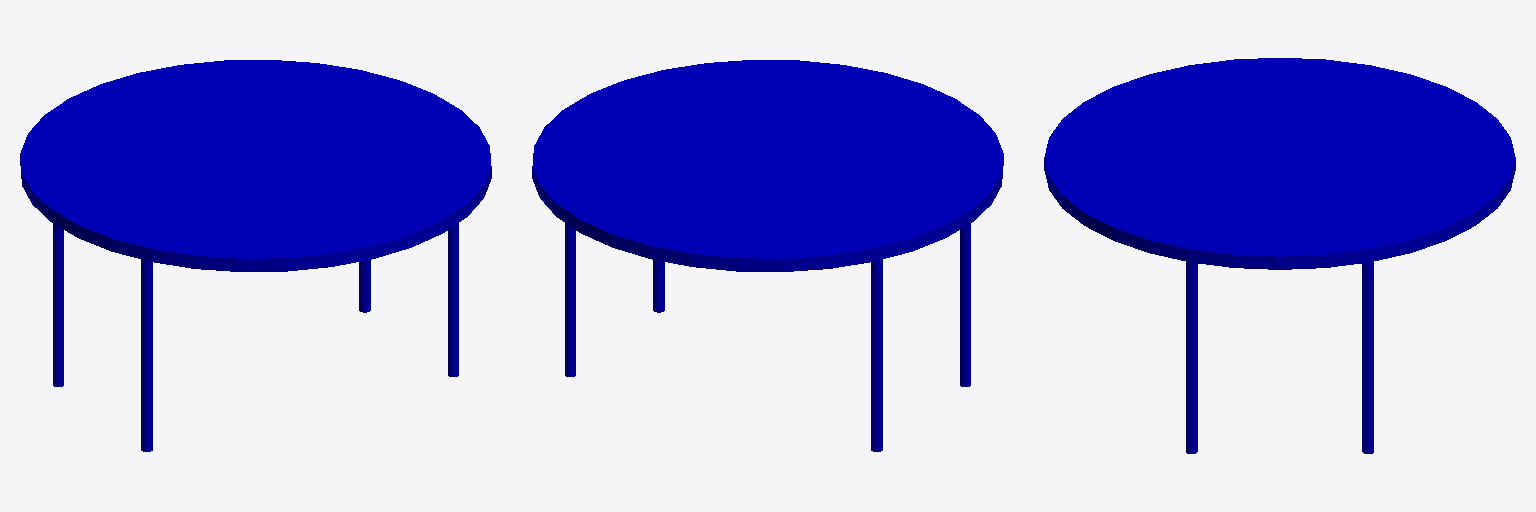
robot.urdf — turtlebot3_burger:
<?xml version="1.0" ?>
<!-- =================================================================================== -->
<!-- |    This document was autogenerated by xacro from tb3_burger.urdf.xacro          | -->
<!-- |    EDITING THIS FILE BY HAND IS NOT RECOMMENDED                                 | -->
<!-- =================================================================================== -->
<robot name="turtlebot3_burger">
  <!-- Init colour -->
  <material name="black">
    <color rgba="0.0 0.0 0.0 1.0"/>
  </material>
  <material name="dark">
    <color rgba="0.3 0.3 0.3 1.0"/>
  </material>
  <material name="light_black">
    <color rgba="0.4 0.4 0.4 1.0"/>
  </material>
  <material name="blue">
    <color rgba="0.0 0.0 0.8 1.0"/>
  </material>
  <material name="blueTransparent">
    <color rgba="0.0 0.0 0.8 0.4"/>
  </material>
  <material name="green">
    <color rgba="0.0 0.8 0.0 1.0"/>
  </material>
  <material name="grey">
    <color rgba="0.5 0.5 0.5 1.0"/>
  </material>
  <material name="orange">
    <color rgba="1.0 0.4235294117647059 0.0392156862745098 1.0"/>
  </material>
  <material name="brown">
    <color rgba="0.8705882352941177 0.8117647058823529 0.7647058823529411 1.0"/>
  </material>
  <material name="red">
    <color rgba="0.8 0.0 0.0 1.0"/>
  </material>
  <material name="white">
    <color rgba="1.0 1.0 1.0 1.0"/>
  </material>
  <gazebo reference="base_link">
    <material>Gazebo/DarkGrey</material>
  </gazebo>
  <gazebo reference="wheel_left_link">
    <mu1>0.1</mu1>
    <mu2>0.1</mu2>
    <kp>500000.0</kp>
    <kd>10.0</kd>
    <minDepth>0.001</minDepth>
    <maxVel>0.1</maxVel>
    <fdir1>1 0 0</fdir1>
    <material>Gazebo/FlatBlack</material>
  </gazebo>
  <gazebo reference="wheel_right_link">
    <mu1>0.1</mu1>
    <mu2>0.1</mu2>
    <kp>500000.0</kp>
    <kd>10.0</kd>
    <minDepth>0.001</minDepth>
    <maxVel>0.1</maxVel>
    <fdir1>1 0 0</fdir1>
    <material>Gazebo/FlatBlack</material>
  </gazebo>
  <gazebo reference="caster_back_link">
    <mu1>0.1</mu1>
    <mu2>0.1</mu2>
    <kp>1000000.0</kp>
    <kd>100.0</kd>
    <minDepth>0.001</minDepth>
    <maxVel>1.0</maxVel>
    <material>Gazebo/FlatBlack</material>
  </gazebo>
  <gazebo reference="imu_link">
    <sensor name="imu" type="imu">
      <always_on>true</always_on>
      <visualize>false</visualize>
    </sensor>
    <material>Gazebo/FlatBlack</material>
  </gazebo>
  <gazebo>
    <plugin filename="libgazebo_ros_diff_drive.so" name="turtlebot3_burger_controller">
      <commandTopic>cmd_vel</commandTopic>
      <odometryTopic>odom</odometryTopic>
      <odometryFrame>odom</odometryFrame>
      <odometrySource>world</odometrySource>
      <publishOdomTF>true</publishOdomTF>
      <robotBaseFrame>base_footprint</robotBaseFrame>
      <publishWheelTF>false</publishWheelTF>
      <publishTf>true</publishTf>
      <publishWheelJointState>true</publishWheelJointState>
      <legacyMode>false</legacyMode>
      <updateRate>30</updateRate>
      <leftJoint>wheel_left_joint</leftJoint>
      <rightJoint>wheel_right_joint</rightJoint>
      <wheelSeparation>0.160</wheelSeparation>
      <wheelDiameter>0.066</wheelDiameter>
      <wheelAcceleration>1</wheelAcceleration>
      <wheelTorque>10</wheelTorque>
      <rosDebugLevel>na</rosDebugLevel>
    </plugin>
  </gazebo>
  <gazebo>
    <plugin filename="libgazebo_ros_imu.so" name="imu_plugin">
      <alwaysOn>true</alwaysOn>
      <bodyName>imu_link</bodyName>
      <frameName>imu_link</frameName>
      <topicName>imu</topicName>
      <serviceName>imu_service</serviceName>
      <gaussianNoise>0.0</gaussianNoise>
      <updateRate>0</updateRate>
      <imu>
        <noise>
          <type>gaussian</type>
          <rate>
            <mean>0.0</mean>
            <stddev>2e-4</stddev>
            <bias_mean>0.0000075</bias_mean>
            <bias_stddev>0.0000008</bias_stddev>
          </rate>
          <accel>
            <mean>0.0</mean>
            <stddev>1.7e-2</stddev>
            <bias_mean>0.1</bias_mean>
            <bias_stddev>0.001</bias_stddev>
          </accel>
        </noise>
      </imu>
    </plugin>
  </gazebo>
  <gazebo reference="base_scan">
    <material>Gazebo/FlatBlack</material>
    <sensor name="lds_lfcd_sensor" type="ray">
      <pose>0 0 0 0 0 0</pose>
      <visualize>false</visualize>
      <update_rate>5</update_rate>
      <ray>
        <scan>
          <horizontal>
            <samples>360</samples>
            <resolution>1</resolution>
            <min_angle>0.0</min_angle>
            <max_angle>6.28319</max_angle>
          </horizontal>
        </scan>
        <range>
          <min>0.120</min>
          <max>3.5</max>
          <resolution>0.015</resolution>
        </range>
        <noise>
          <type>gaussian</type>
          <mean>0.0</mean>
          <stddev>0.01</stddev>
        </noise>
      </ray>
      <plugin filename="libgazebo_ros_laser.so" name="gazebo_ros_lds_lfcd_controller">
        <topicName>scan</topicName>
        <frameName>base_scan</frameName>
      </plugin>
    </sensor>
  </gazebo>
  <link name="base_footprint"/>
  <joint name="base_joint" type="fixed">
    <parent link="base_footprint"/>
    <child link="base_link"/>
    <origin rpy="0 0 0" xyz="0.0 0.0 0.010"/>
  </joint>
  <joint name="base_to_fl_pillar" type="fixed">
    <origin rpy="0 0 0" xyz="0.03 0.03 0.18000000000000002"/>
    <parent link="base_link"/>
    <child link="front_left_pillar"/>
  </joint>
  <link name="front_left_pillar">
    <visual>
      <geometry>
        <cylinder length="0.08" radius="0.002"/>
      </geometry>
      <material name="blue">
        <color rgba="0 0 0.8 1"/>
      </material>
    </visual>
    <collision>
      <geometry>
        <cylinder length="0.08" radius="0.002"/>
      </geometry>
    </collision>
    <inertial>
      <mass value="0.1"/>
      <inertia ixx="5.343331196e-05" ixy="0.0" ixz="0.0" iyy="5.343331196e-05" iyz="0.0" izz="2e-07"/>
    </inertial>
  </link>
  <joint name="base_to_fr_pillar" type="fixed">
    <origin rpy="0 0 0" xyz="0.03 -0.03 0.18000000000000002"/>
    <parent link="base_link"/>
    <child link="front_right_pillar"/>
  </joint>
  <link name="front_right_pillar">
    <visual>
      <geometry>
        <cylinder length="0.08" radius="0.002"/>
      </geometry>
      <material name="blue">
        <color rgba="0 0 0.8 1"/>
      </material>
    </visual>
    <collision>
      <geometry>
        <cylinder length="0.08" radius="0.002"/>
      </geometry>
    </collision>
    <inertial>
      <mass value="0.1"/>
      <inertia ixx="5.343331196e-05" ixy="0.0" ixz="0.0" iyy="5.343331196e-05" iyz="0.0" izz="2e-07"/>
    </inertial>
  </link>
  <joint name="base_to_br_pillar" type="fixed">
    <origin rpy="0 0 0" xyz="-0.09 -0.03 0.18000000000000002"/>
    <parent link="base_link"/>
    <child link="back_right_pillar"/>
  </joint>
  <link name="back_right_pillar">
    <visual>
      <geometry>
        <cylinder length="0.08" radius="0.002"/>
      </geometry>
      <material name="blue">
        <color rgba="0 0 0.8 1"/>
      </material>
    </visual>
    <collision>
      <geometry>
        <cylinder length="0.08" radius="0.002"/>
      </geometry>
    </collision>
    <inertial>
      <mass value="0.1"/>
      <inertia ixx="5.343331196e-05" ixy="0.0" ixz="0.0" iyy="5.343331196e-05" iyz="0.0" izz="2e-07"/>
    </inertial>
  </link>
  <joint name="base_to_bl_pillar" type="fixed">
    <origin rpy="0 0 0" xyz="-0.09 0.03 0.18000000000000002"/>
    <parent link="base_link"/>
    <child link="back_left_pillar"/>
  </joint>
  <link name="back_left_pillar">
    <visual>
      <geometry>
        <cylinder length="0.08" radius="0.002"/>
      </geometry>
      <material name="blue">
        <color rgba="0 0 0.8 1"/>
      </material>
    </visual>
    <collision>
      <geometry>
        <cylinder length="0.08" radius="0.002"/>
      </geometry>
    </collision>
    <inertial>
      <mass value="0.1"/>
      <inertia ixx="5.343331196e-05" ixy="0.0" ixz="0.0" iyy="5.343331196e-05" iyz="0.0" izz="2e-07"/>
    </inertial>
  </link>
  <joint name="base_to_disc" type="fixed">
    <origin rpy="0 0 0" xyz="-0.03 0.0 0.22000000000000003"/>
    <parent link="base_link"/>
    <child link="disc"/>
  </joint>
  <link name="disc">
    <visual>
      <geometry>
        <cylinder length="0.005" radius="0.08"/>
      </geometry>
      <material name="blue">
        <color rgba="0 0 0.8 1"/>
      </material>
    </visual>
    <collision>
      <geometry>
        <cylinder length="0.005" radius="0.08"/>
      </geometry>
    </collision>
    <inertial>
      <mass value="0.1"/>
      <inertia ixx="0.00016020826925" ixy="0.0" ixz="0.0" iyy="0.00016020826925" iyz="0.0" izz="0.00032"/>
    </inertial>
  </link>
  <link name="base_link">
    <visual>
      <origin rpy="0 0 0" xyz="-0.032 0 0.0"/>
      <geometry>
        <mesh filename="package://turtlebot3_description/meshes/bases/burger_base.stl" scale="0.001 0.001 0.001"/>
      </geometry>
      <material name="light_black"/>
    </visual>
    <collision>
      <origin rpy="0 0 0" xyz="-0.032 0 0.070"/>
      <geometry>
        <box size="0.140 0.140 0.143"/>
      </geometry>
    </collision>
    <inertial>
      <origin rpy="0 0 0" xyz="0 0 0"/>
      <mass value="8.2573504e-01"/>
      <inertia ixx="2.2124416e-03" ixy="-1.2294101e-05" ixz="3.4938785e-05" iyy="2.1193702e-03" iyz="-5.0120904e-06" izz="2.0064271e-03"/>
    </inertial>
  </link>
  <joint name="wheel_left_joint" type="fixed">
    <parent link="base_link"/>
    <child link="wheel_left_link"/>
    <origin rpy="-1.57 0 0" xyz="0.0 0.08 0.023"/>
    <axis xyz="0 0 1"/>
  </joint>
  <link name="wheel_left_link">
    <visual>
      <origin rpy="1.57 0 0" xyz="0 0 0"/>
      <geometry>
        <mesh filename="package://turtlebot3_description/meshes/wheels/left_tire.stl" scale="0.001 0.001 0.001"/>
      </geometry>
      <material name="dark"/>
    </visual>
    <collision>
      <origin rpy="0 0 0" xyz="0 0 0"/>
      <geometry>
        <cylinder length="0.018" radius="0.033"/>
      </geometry>
    </collision>
    <inertial>
      <origin xyz="0 0 0"/>
      <mass value="2.8498940e-02"/>
      <inertia ixx="1.1175580e-05" ixy="-4.2369783e-11" ixz="-5.9381719e-09" iyy="1.1192413e-05" iyz="-1.4400107e-11" izz="2.0712558e-05"/>
    </inertial>
  </link>
  <joint name="wheel_right_joint" type="fixed">
    <parent link="base_link"/>
    <child link="wheel_right_link"/>
    <origin rpy="-1.57 0 0" xyz="0.0 -0.080 0.023"/>
    <axis xyz="0 0 1"/>
  </joint>
  <link name="wheel_right_link">
    <visual>
      <origin rpy="1.57 0 0" xyz="0 0 0"/>
      <geometry>
        <mesh filename="package://turtlebot3_description/meshes/wheels/right_tire.stl" scale="0.001 0.001 0.001"/>
      </geometry>
      <material name="dark"/>
    </visual>
    <collision>
      <origin rpy="0 0 0" xyz="0 0 0"/>
      <geometry>
        <cylinder length="0.018" radius="0.033"/>
      </geometry>
    </collision>
    <inertial>
      <origin xyz="0 0 0"/>
      <mass value="2.8498940e-02"/>
      <inertia ixx="1.1175580e-05" ixy="-4.2369783e-11" ixz="-5.9381719e-09" iyy="1.1192413e-05" iyz="-1.4400107e-11" izz="2.0712558e-05"/>
    </inertial>
  </link>
  <joint name="caster_back_joint" type="fixed">
    <parent link="base_link"/>
    <child link="caster_back_link"/>
    <origin rpy="-1.57 0 0" xyz="-0.081 0 -0.004"/>
  </joint>
  <link name="caster_back_link">
    <collision>
      <origin rpy="0 0 0" xyz="0 0.001 0"/>
      <geometry>
        <box size="0.030 0.009 0.020"/>
      </geometry>
    </collision>
    <inertial>
      <origin xyz="0 0 0"/>
      <mass value="0.005"/>
      <inertia ixx="0.001" ixy="0.0" ixz="0.0" iyy="0.001" iyz="0.0" izz="0.001"/>
    </inertial>
  </link>
  <joint name="imu_joint" type="fixed">
    <parent link="base_link"/>
    <child link="imu_link"/>
    <origin rpy="0 0 0" xyz="-0.032 0 0.068"/>
  </joint>
  <link name="imu_link"/>
  <joint name="scan_joint" type="fixed">
    <parent link="base_link"/>
    <child link="base_scan"/>
    <origin rpy="0 0 0" xyz="-0.032 0 0.172"/>
  </joint>
  <link name="base_scan">
    <visual>
      <origin rpy="0 0 0" xyz="0 0 0.0"/>
      <geometry>
        <mesh filename="package://turtlebot3_description/meshes/sensors/lds.stl" scale="0.001 0.001 0.001"/>
      </geometry>
      <material name="dark"/>
    </visual>
    <collision>
      <origin rpy="0 0 0" xyz="0.015 0 -0.0065"/>
      <geometry>
        <cylinder length="0.0315" radius="0.055"/>
      </geometry>
    </collision>
    <inertial>
      <mass value="0.114"/>
      <origin xyz="0 0 0"/>
      <inertia ixx="0.001" ixy="0.0" ixz="0.0" iyy="0.001" iyz="0.0" izz="0.001"/>
    </inertial>
  </link>
</robot>

--- Render facts (derived) ---
Views: 3 orthographic renders of the robot side by side, from view 1: azimuth 30°, elevation 25°; view 2: azimuth 150°, elevation 25°; view 3: azimuth 270°, elevation 25°.
Model turtlebot3_burger with 12 links and 11 joints (11 fixed), rooted at base_footprint, posed all joints at 0.
Visible links, largest first — view 1: disc, back_right_pillar, back_left_pillar, front_right_pillar, front_left_pillar; view 2: disc, back_left_pillar, back_right_pillar, front_left_pillar, front_right_pillar; view 3: disc, front_left_pillar, front_right_pillar.
Link boxes in pixels (x1,y1,x2,y2): disc: (20,60,491,271); back_right_pillar: (141,259,152,451); back_left_pillar: (53,224,63,386); front_right_pillar: (448,223,458,376); front_left_pillar: (359,260,370,312); disc: (532,60,1003,271); back_left_pillar: (871,259,882,451); back_right_pillar: (960,224,970,386); front_left_pillar: (565,223,575,376); front_right_pillar: (653,260,664,312); disc: (1044,58,1515,269); front_left_pillar: (1362,262,1373,453); front_right_pillar: (1186,262,1197,453).
Bounding box of the posed robot: 0.16 × 0.16 × 0.0825 m (x, y, z).
0 mesh visuals loaded from 4 distinct referenced files (none loaded); not drawn: 4 (reference not matched to a file when rendering).
